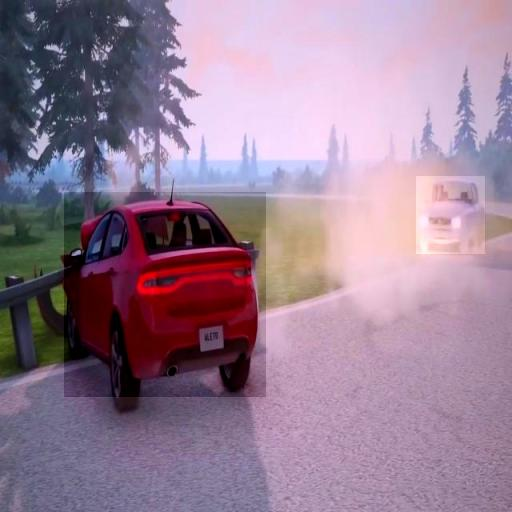小汽车: (416, 176, 485, 254)
小汽车撞物: (64, 192, 266, 397)
